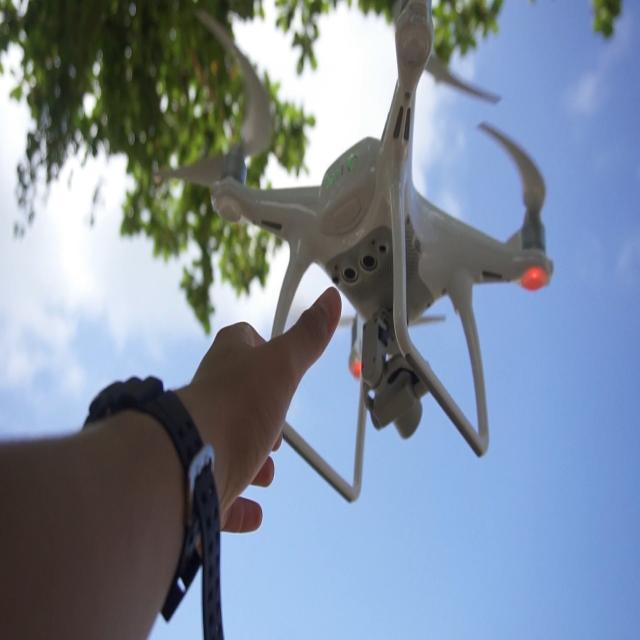Drone: (212, 0, 556, 457)
